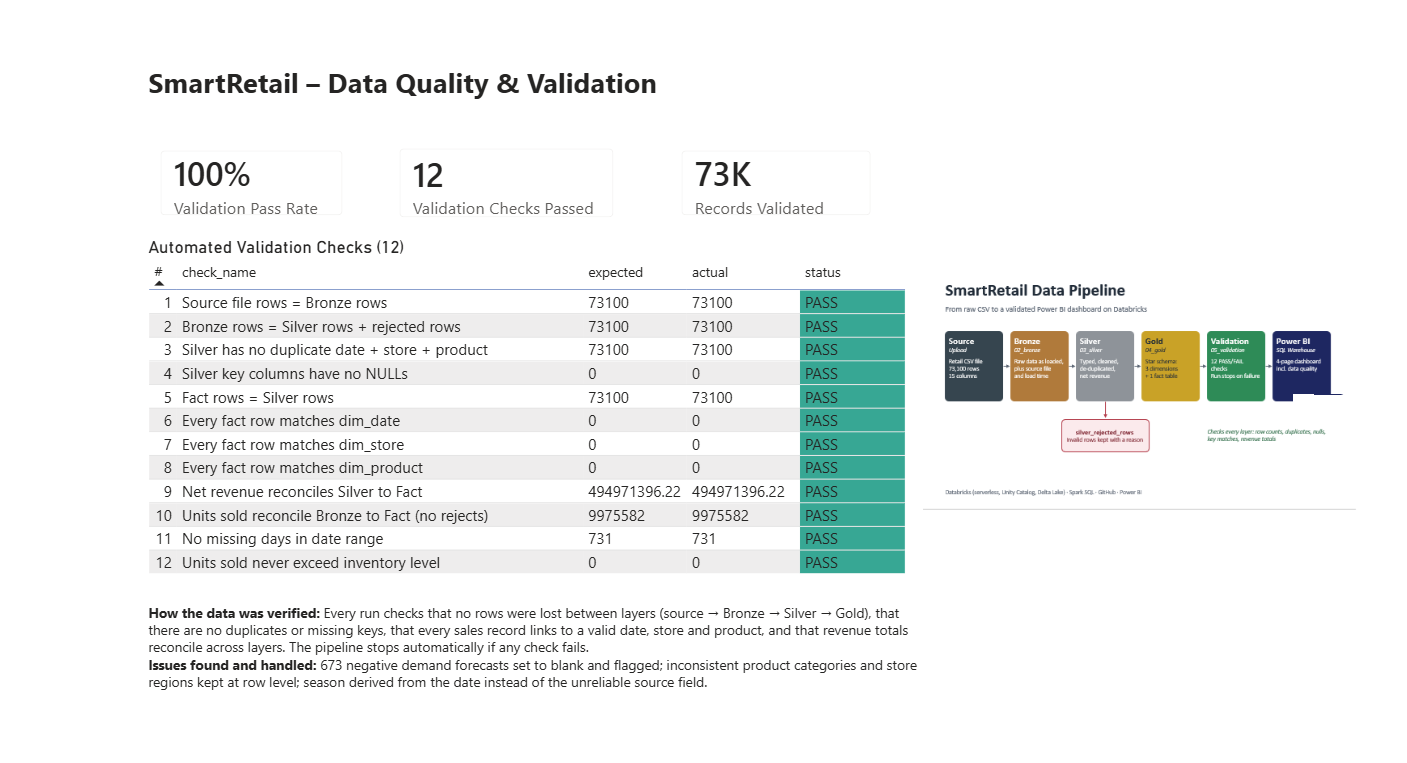

What the dashboard file says about the page in this screenshot:
{"tool":"powerbi","page":{"name":"Data Quality","canvas":[1280,720],"ordinal":4},"visuals":[{"type":"textbox","box":[38.9,34,506.7,48.6],"z":0},{"type":"cardVisual","fields":{"Data":["_Measures.Validation Checks Passed"]},"box":[271.4,105,242.2,101.2],"z":1000},{"type":"cardVisual","fields":{"Data":["_Measures.Validation Pass Rate"]},"box":[38.9,107,211.1,97.3],"z":2000},{"type":"tableEx","title":"Automated Validation Checks (12)","fields":{"Values":["validation_results.check_id","validation_results.check_name","validation_results.expected","validation_results.actual","validation_results.status"]},"box":[38.9,208.1,789.8,361.8],"z":4000},{"type":"textbox","box":[790,58,210,150],"z":5000},{"type":"textbox","box":[38.9,559.3,772.3,149.8],"z":7000},{"type":"image","box":[797.6,190.6,421.2,331.7],"z":8000},{"type":"cardVisual","fields":{"Data":["_Measures.Records Validated"]},"box":[545.7,107,218.8,97.3],"z":8001}]}

Visuals, with their boxes on the page's 1280x720 design canvas (x1, y1, x2, y2). These are canvas units, not pixel positions in the 1407x763 screenshot, which may show the page scaled, cropped or inside an application window:
textbox: box(39, 34, 546, 83)
cardVisual - _Measures.Validation Checks Passed: box(271, 105, 514, 206)
cardVisual - _Measures.Validation Pass Rate: box(39, 107, 250, 204)
"Automated Validation Checks (12)" tableEx: box(39, 208, 829, 570)
textbox: box(790, 58, 1000, 208)
textbox: box(39, 559, 811, 709)
image: box(798, 191, 1219, 522)
cardVisual - _Measures.Records Validated: box(546, 107, 764, 204)
